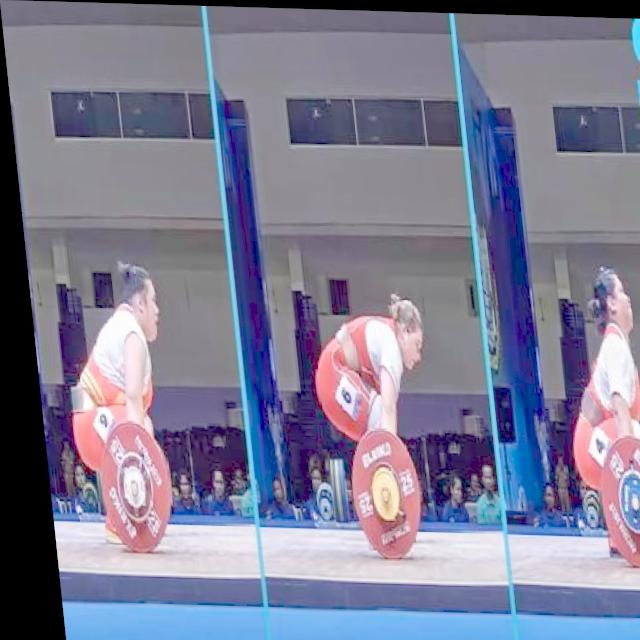barbell: (81, 415, 166, 558), (334, 420, 419, 563), (583, 430, 640, 570)
